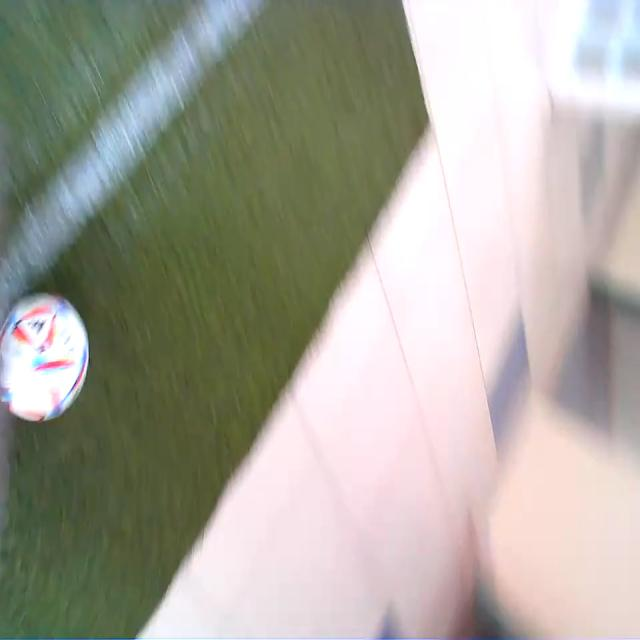ball: (0, 292, 91, 423)
